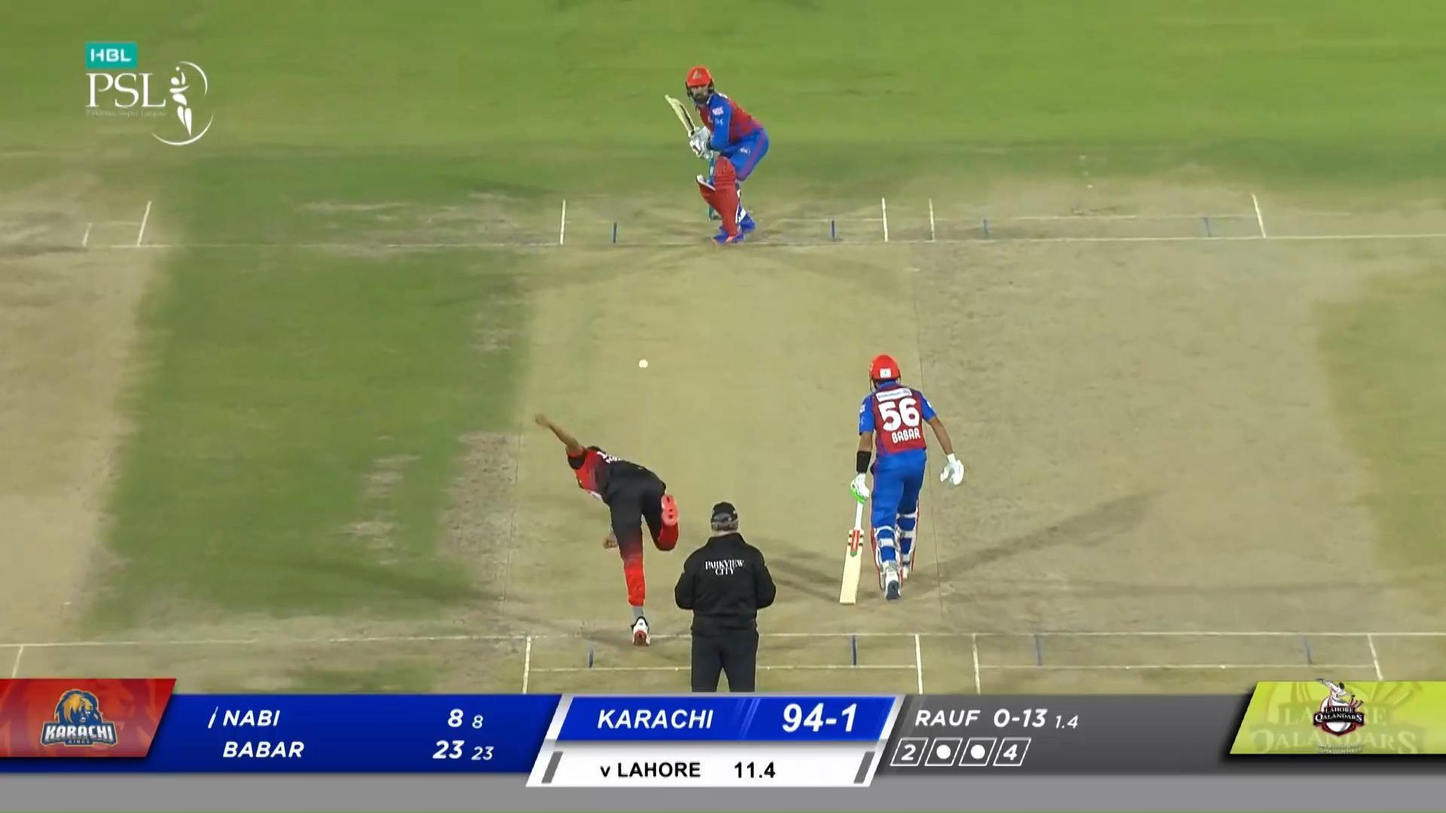BM 1: (663, 66, 770, 245)
BO: (534, 409, 681, 650)
